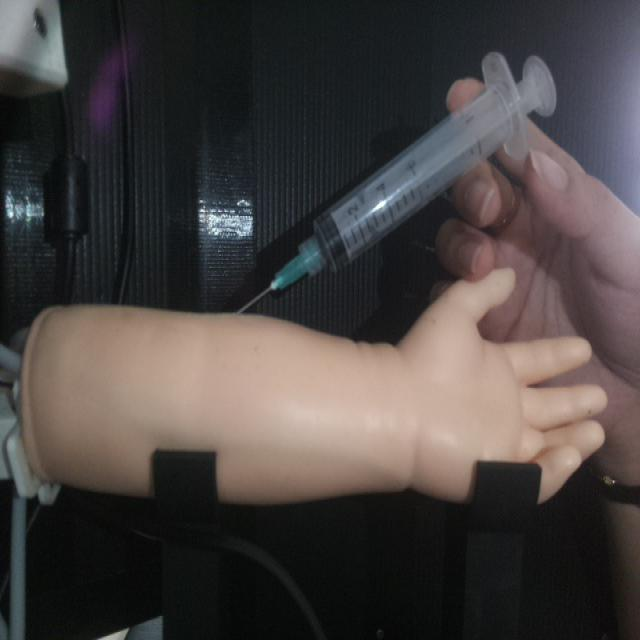Outside: (233, 48, 558, 315)
